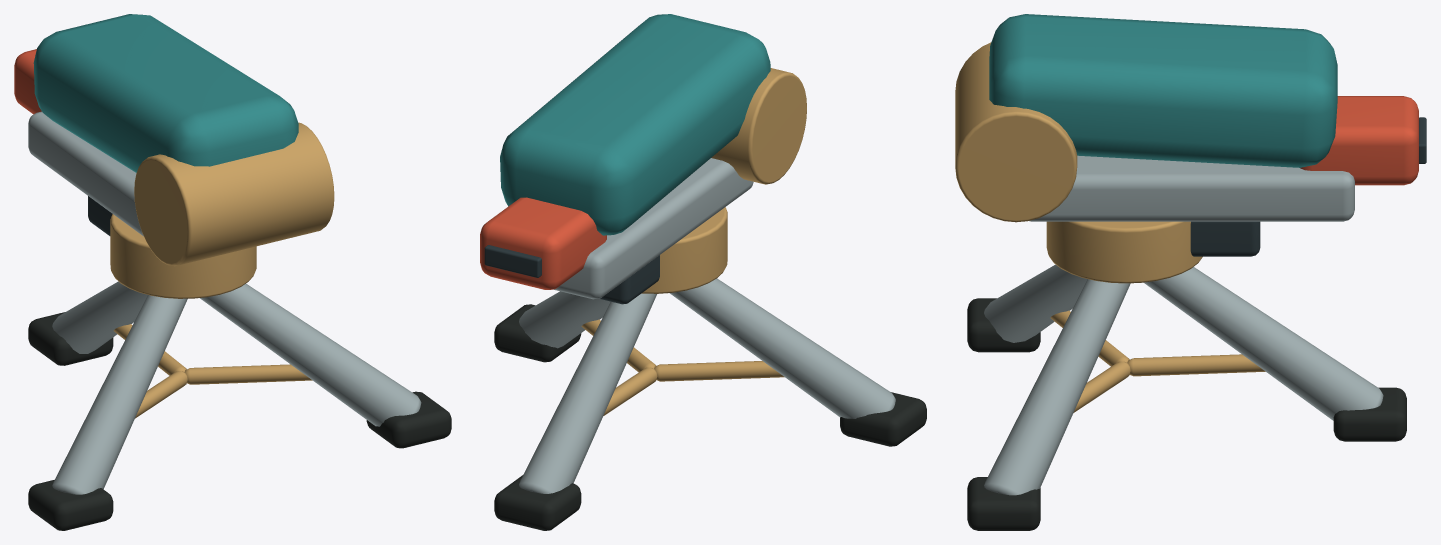
3 views of the same model, side by side, from view 1: azimuth 30°, elevation 25°; view 2: azimuth 150°, elevation 25°; view 3: azimuth 270°, elevation 25° (orthographic). The views are drawn at different scales.
Parts seen in each view (by area): view 1: stapler_head, head_hinge, tripod_leg_002, tripod_leg_001, yaw_bearing, turret_lower_rail, tripod_leg, foot_pad_001, foot_pad_002, leg_brace_002, foot_pad, muzzle_housing (+3 smaller); view 2: stapler_head, tripod_leg_001, tripod_leg, turret_lower_rail, muzzle_housing, head_hinge, yaw_bearing, tripod_leg_002, foot_pad, foot_pad_001, leg_brace_001, foot_pad_002 (+4 smaller); view 3: stapler_head, turret_lower_rail, head_hinge, tripod_leg, tripod_leg_002, yaw_bearing, muzzle_housing, tripod_leg_001, foot_pad_002, foot_pad, staple_magazine, leg_brace (+3 smaller).
Part boxes in pixels (x1,y1,x2,y2): stapler_head: (33,14,298,172); head_hinge: (134,122,334,266); tripod_leg_002: (200,284,421,426); tripod_leg_001: (52,295,187,494); yaw_bearing: (110,214,256,298); turret_lower_rail: (28,111,143,236); tripod_leg: (52,281,147,353); foot_pad_001: (28,480,113,530); foot_pad_002: (366,391,451,448); leg_brace_002: (184,364,312,384); foot_pad: (28,312,113,365); muzzle_housing: (14,49,41,114); stapler_head: (500,14,770,235); tripod_leg_001: (669,278,895,418); tripod_leg: (519,293,656,493); turret_lower_rail: (553,158,753,299); muzzle_housing: (480,197,606,289); head_hinge: (711,68,806,184); yaw_bearing: (641,207,727,293); tripod_leg_002: (519,291,610,348); foot_pad: (494,475,581,530); foot_pad_001: (840,392,926,446); leg_brace_001: (654,361,784,381); foot_pad_002: (494,304,581,362); stapler_head: (989,14,1337,167); turret_lower_rail: (1029,155,1354,221); head_hinge: (955,42,1077,222); tripod_leg: (1144,267,1383,420); tripod_leg_002: (984,279,1130,495); yaw_bearing: (1046,221,1202,283); muzzle_housing: (1300,96,1418,185); tripod_leg_001: (984,264,1087,342); foot_pad_002: (967,477,1040,530); foot_pad: (1333,387,1406,441); staple_magazine: (1190,221,1260,256); leg_brace: (1127,354,1265,376).
Size of the model in its own units: 0.8128 by 0.7136 by 0.7725.
